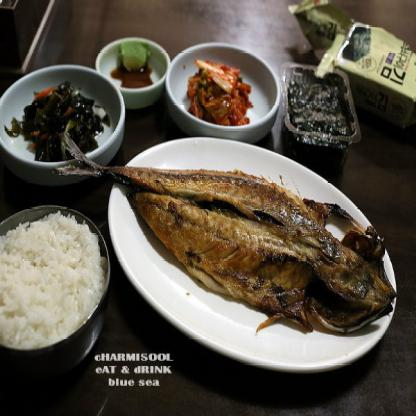Peixe: (114, 156, 402, 341)
